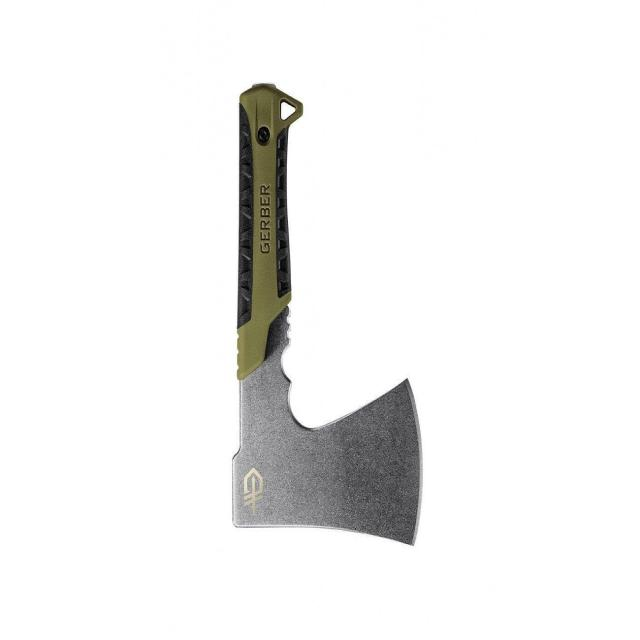Kapak: (207, 70, 460, 557)
